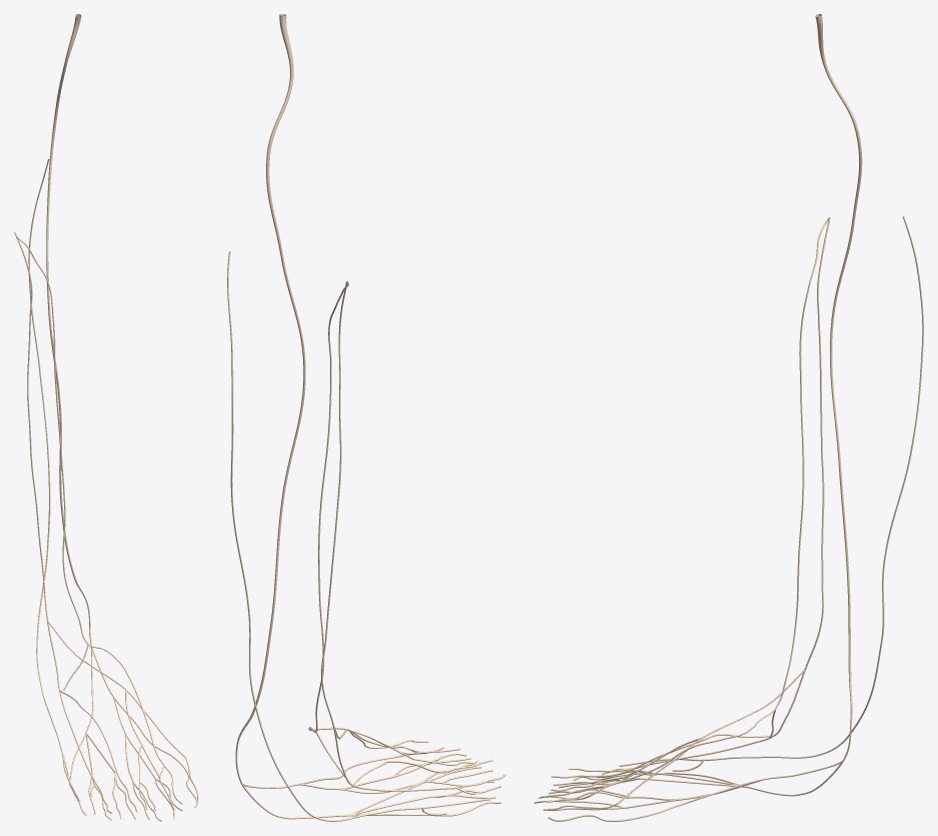
The model's file is nerves.glb.
The picture shows the model from 3 angles, left to right: view 1: azimuth 30°, elevation 25°; view 2: azimuth 150°, elevation 25°; view 3: azimuth 270°, elevation 25°; orthographic projection. The views are drawn at different scales.
Visible parts, largest first — view 1: Tibial nerve.r, Sural nerve.r, Deep fibular nerve.r, Superficial fibular nerve.r, Dorsal digital branches of superficial fibular nerve.r, Medial dorsal cutaneous nerve of foot.r, Proper plantar digital branches of medial plantar nerve.r, Proper plantar digital branches of lateral plantar nerve.r, Intermediate dorsal cutaneous nerve of foot.r; view 2: Tibial nerve.r, Sural nerve.r, Deep fibular nerve.r, Superficial fibular nerve.r, Dorsal digital branches of superficial fibular nerve.r, Proper plantar digital branches of lateral plantar nerve.r, Proper plantar digital branches of medial plantar nerve.r, Common plantar digital branches of lateral plantar nerve.r; view 3: Tibial nerve.r, Sural nerve.r, Deep fibular nerve.r, Superficial fibular nerve.r, Dorsal digital branches of superficial fibular nerve.r, Proper plantar digital branches of medial plantar nerve.r, Medial dorsal cutaneous nerve of foot.r.
Boxes of the visible parts, x1,y1,x2,y2 form: Tibial nerve.r: (46,14,91,643); Sural nerve.r: (28,159,80,801); Deep fibular nerve.r: (14,232,149,726); Superficial fibular nerve.r: (16,237,48,621); Dorsal digital branches of superficial fibular nerve.r: (80,742,198,813); Medial dorsal cutaneous nerve of foot.r: (47,621,185,765); Proper plantar digital branches of medial plantar nerve.r: (132,758,198,821); Proper plantar digital branches of lateral plantar nerve.r: (69,772,135,820); Intermediate dorsal cutaneous nerve of foot.r: (47,621,106,751); Tibial nerve.r: (235,14,305,783); Sural nerve.r: (227,251,490,821); Deep fibular nerve.r: (308,281,367,741); Superficial fibular nerve.r: (321,281,347,727); Dorsal digital branches of superficial fibular nerve.r: (365,739,505,794); Proper plantar digital branches of lateral plantar nerve.r: (426,769,501,816); Proper plantar digital branches of medial plantar nerve.r: (349,753,481,785); Common plantar digital branches of lateral plantar nerve.r: (349,780,445,816); Tibial nerve.r: (815,14,862,760); Sural nerve.r: (619,216,923,771); Deep fibular nerve.r: (657,217,829,768); Superficial fibular nerve.r: (804,217,830,670); Dorsal digital branches of superficial fibular nerve.r: (543,754,683,810); Proper plantar digital branches of medial plantar nerve.r: (534,789,645,821); Medial dorsal cutaneous nerve of foot.r: (615,670,805,804).
Bounding box in the file's own units: 0.0899 × 0.5336 × 0.233.
